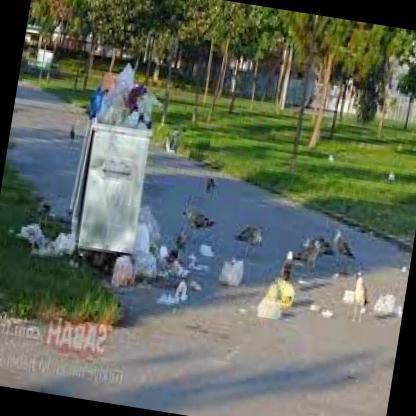Garbage: (85, 64, 159, 126), (10, 222, 72, 258), (132, 200, 166, 258), (254, 282, 294, 328), (158, 282, 196, 318), (369, 287, 404, 321), (214, 252, 245, 286), (125, 103, 151, 133), (304, 298, 334, 318), (103, 95, 124, 122), (196, 234, 218, 257), (184, 257, 204, 275), (336, 284, 352, 306)
